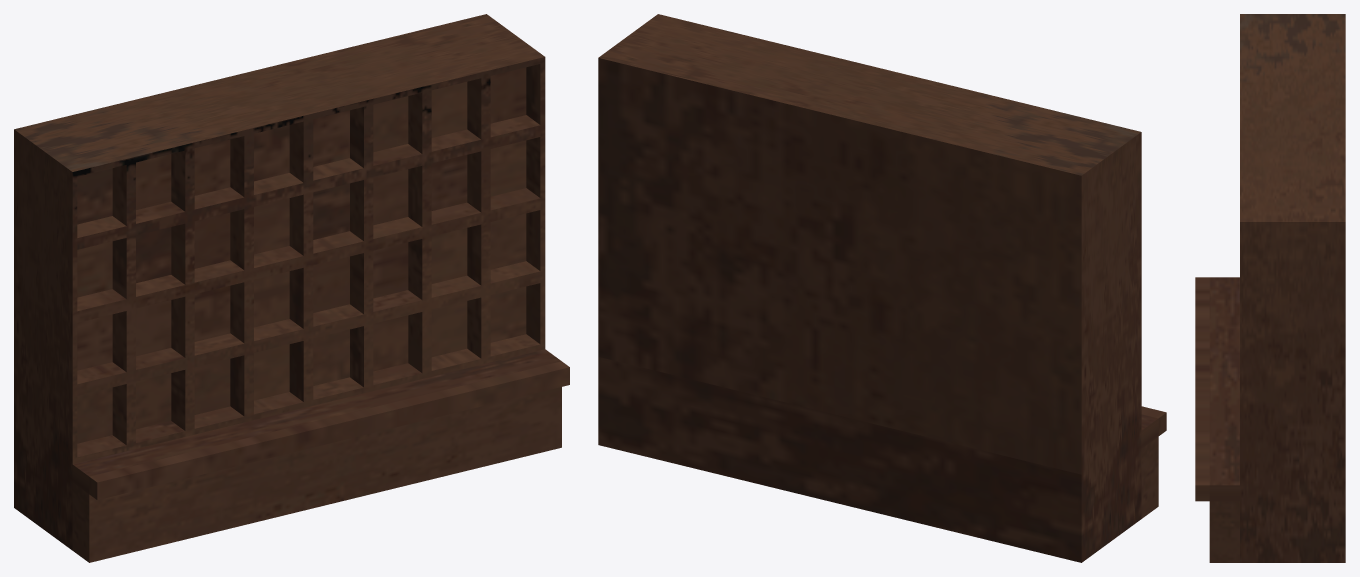
The model's file is Key_Cabinet.fbx.
3 renders of one model, left to right at view 1: azimuth 30°, elevation 25°; view 2: azimuth 150°, elevation 25°; view 3: azimuth 270°, elevation 25°, orthographic. The views are drawn at different scales.
Visible parts, largest first — view 1: Key Cabinet; view 2: Key Cabinet; view 3: Key Cabinet.
Part boxes in pixels (x1,y1,x2,y2): Key Cabinet: [14, 14, 569, 562]; Key Cabinet: [598, 14, 1166, 562]; Key Cabinet: [1195, 14, 1345, 562].
Size of the model in its own units: 1554 by 1190 by 474.
1 material, 1 textured.
